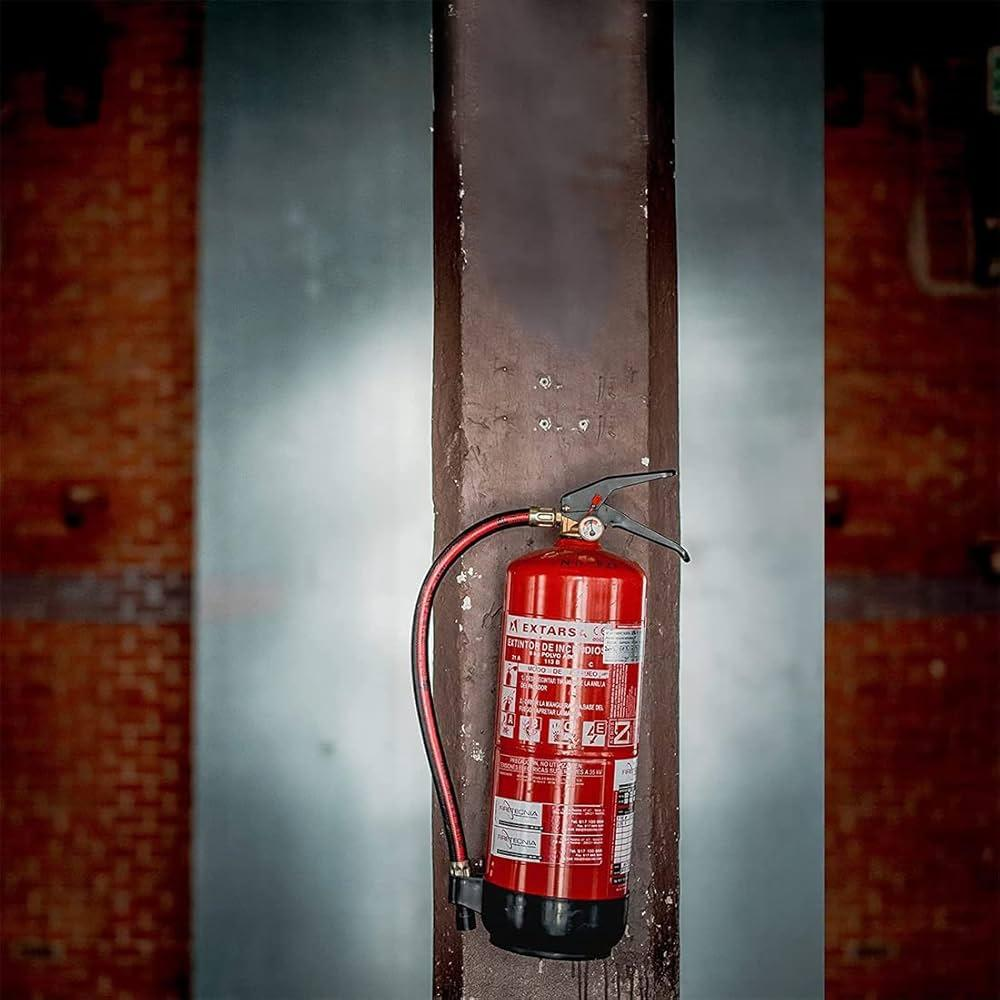wall-mounted: (383, 445, 713, 995)
